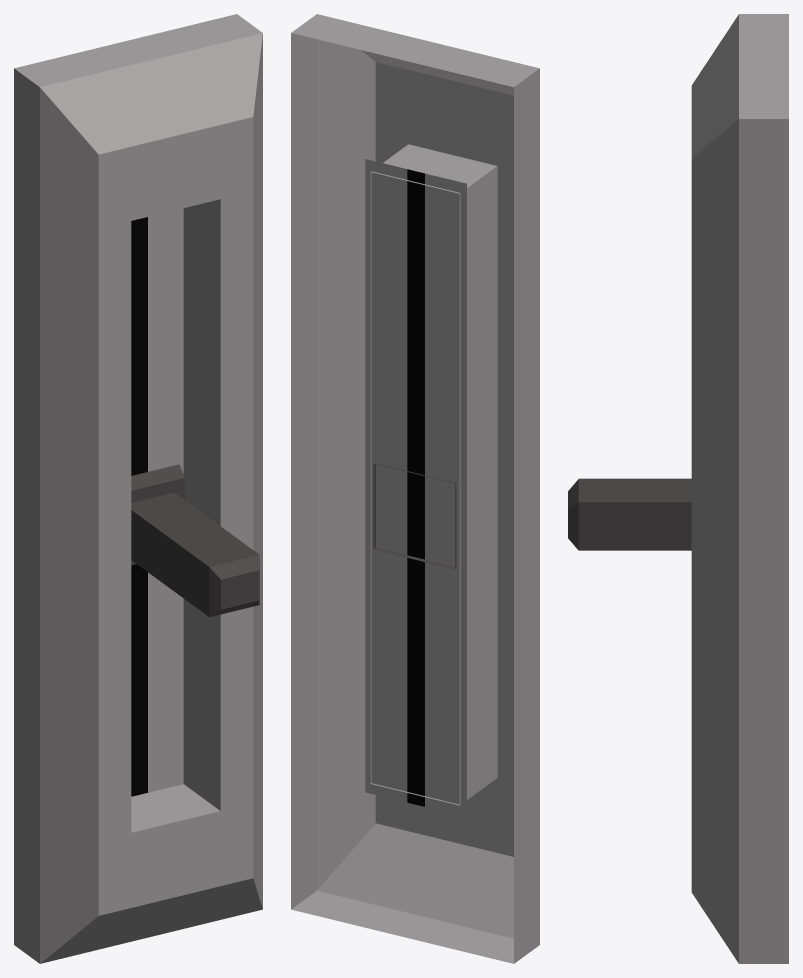
Rendered from WallSwitch_2.fbx.
3 renders of one model, left to right at view 1: azimuth 30°, elevation 25°; view 2: azimuth 150°, elevation 25°; view 3: azimuth 270°, elevation 25°, orthographic. The views are drawn at different scales.
Visible parts, largest first — view 1: WallSwitch_2_Casing, WallSwitch_2_Handle; view 2: WallSwitch_2_Casing, WallSwitch_2_Handle; view 3: WallSwitch_2_Casing, WallSwitch_2_Handle.
Boxes of the visible parts, x1,y1,x2,y2 form: WallSwitch_2_Casing: [14, 14, 262, 963]; WallSwitch_2_Handle: [131, 464, 259, 617]; WallSwitch_2_Casing: [291, 14, 539, 963]; WallSwitch_2_Handle: [373, 463, 456, 569]; WallSwitch_2_Casing: [691, 14, 788, 963]; WallSwitch_2_Handle: [568, 478, 691, 550].
Bounding box in the file's own units: 10.7 × 40.23 × 9.52.
